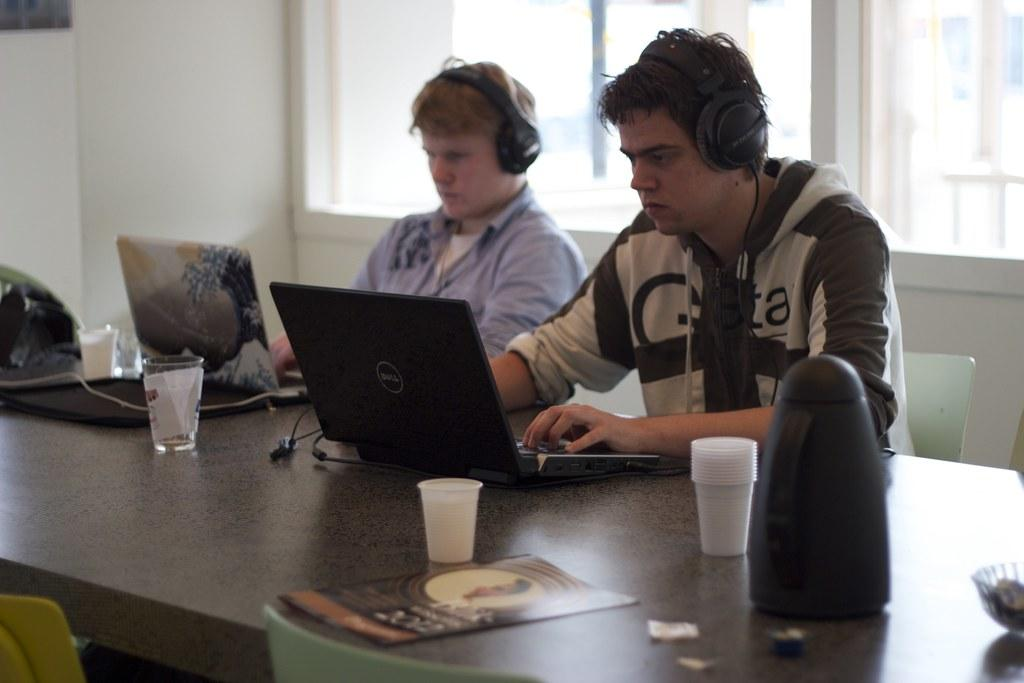Chair: (266, 598, 545, 682), (900, 350, 980, 464), (0, 591, 84, 682)
Laptop: (269, 283, 660, 484), (112, 236, 308, 404)
